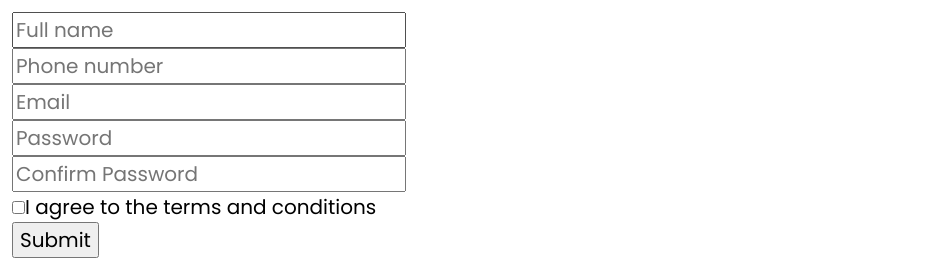
Test: Matches DOM Snapshot › Does not allow empty field values
Click the button "Submit".
click(55, 240)  # box [12,222,99,258]
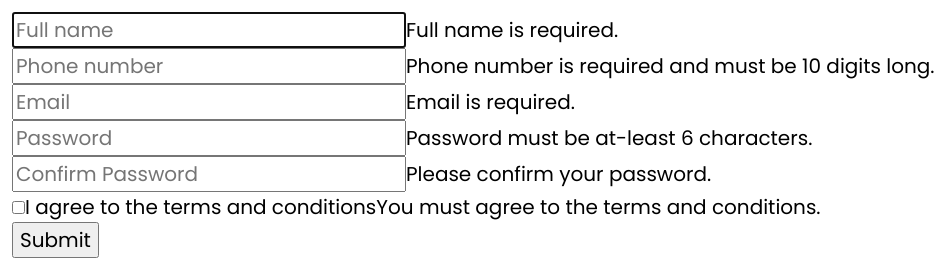
Now the text "Full name is required." is shown, box [406,16,618,44]
Now the text "Phone number is required and must be 10 digits long." is shown, box [406,52,934,80]
Now the text "Email is required." is shown, box [406,88,575,116]
